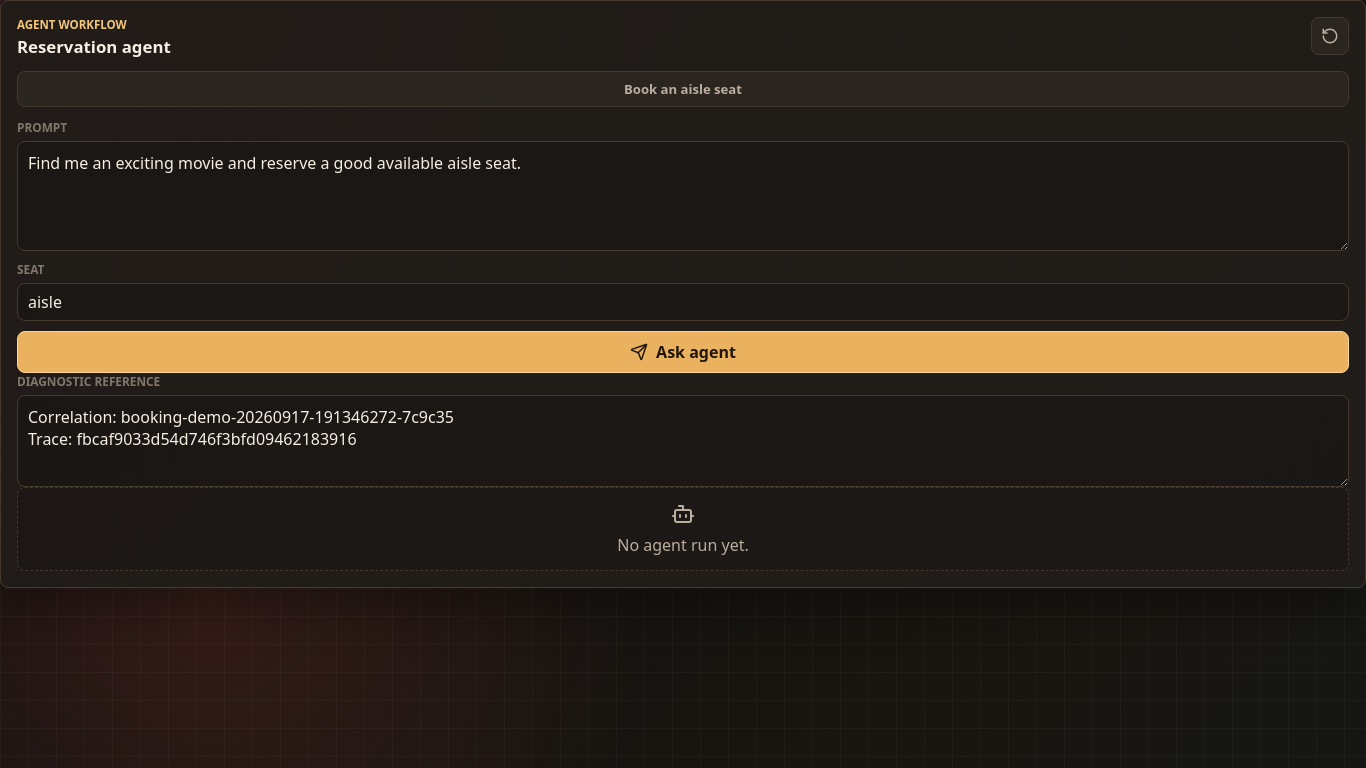
Test: keeps network failures safe and recoverable
This screenshot has width=1366, height=768.
Click the button "Ask agent" at (683, 352), box left=17, top=331, right=1349, bottom=373
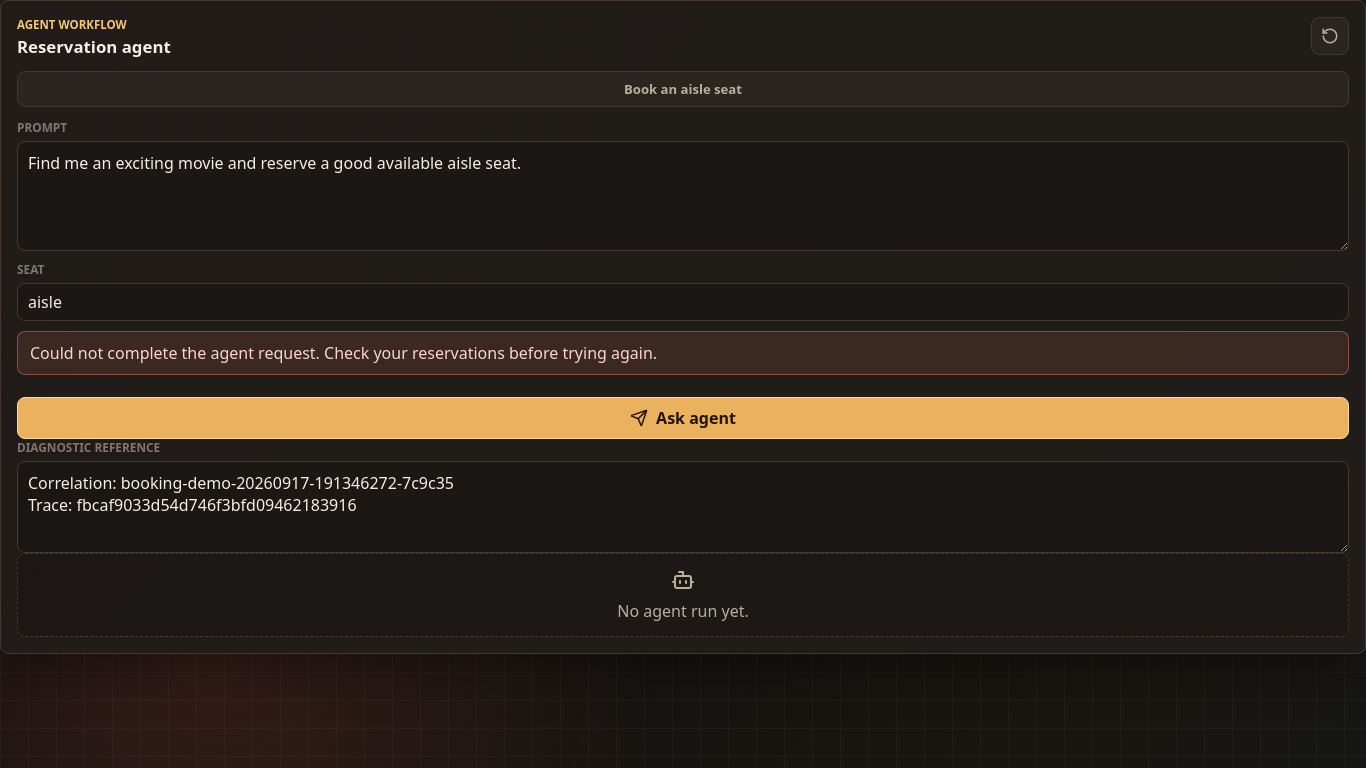
Expected: the button "Ask agent" is enabled, left=17, top=397, right=1349, bottom=439
Expected: the message shows "Check your reservations", left=30, top=342, right=657, bottom=364
